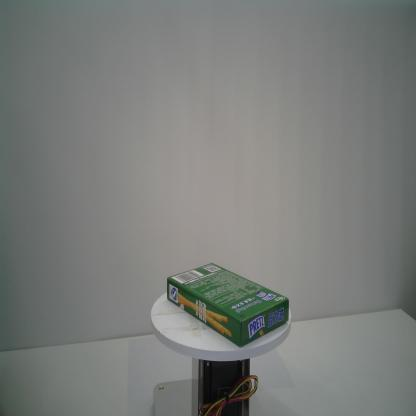Dessert: (167, 262, 290, 348)
